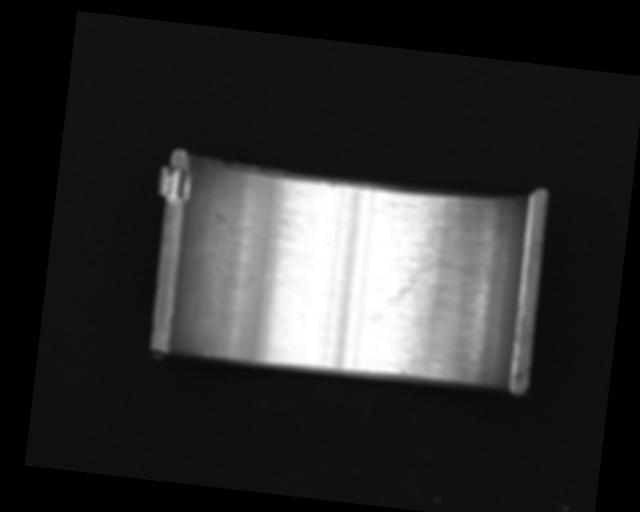bruise: (397, 368, 409, 378)
